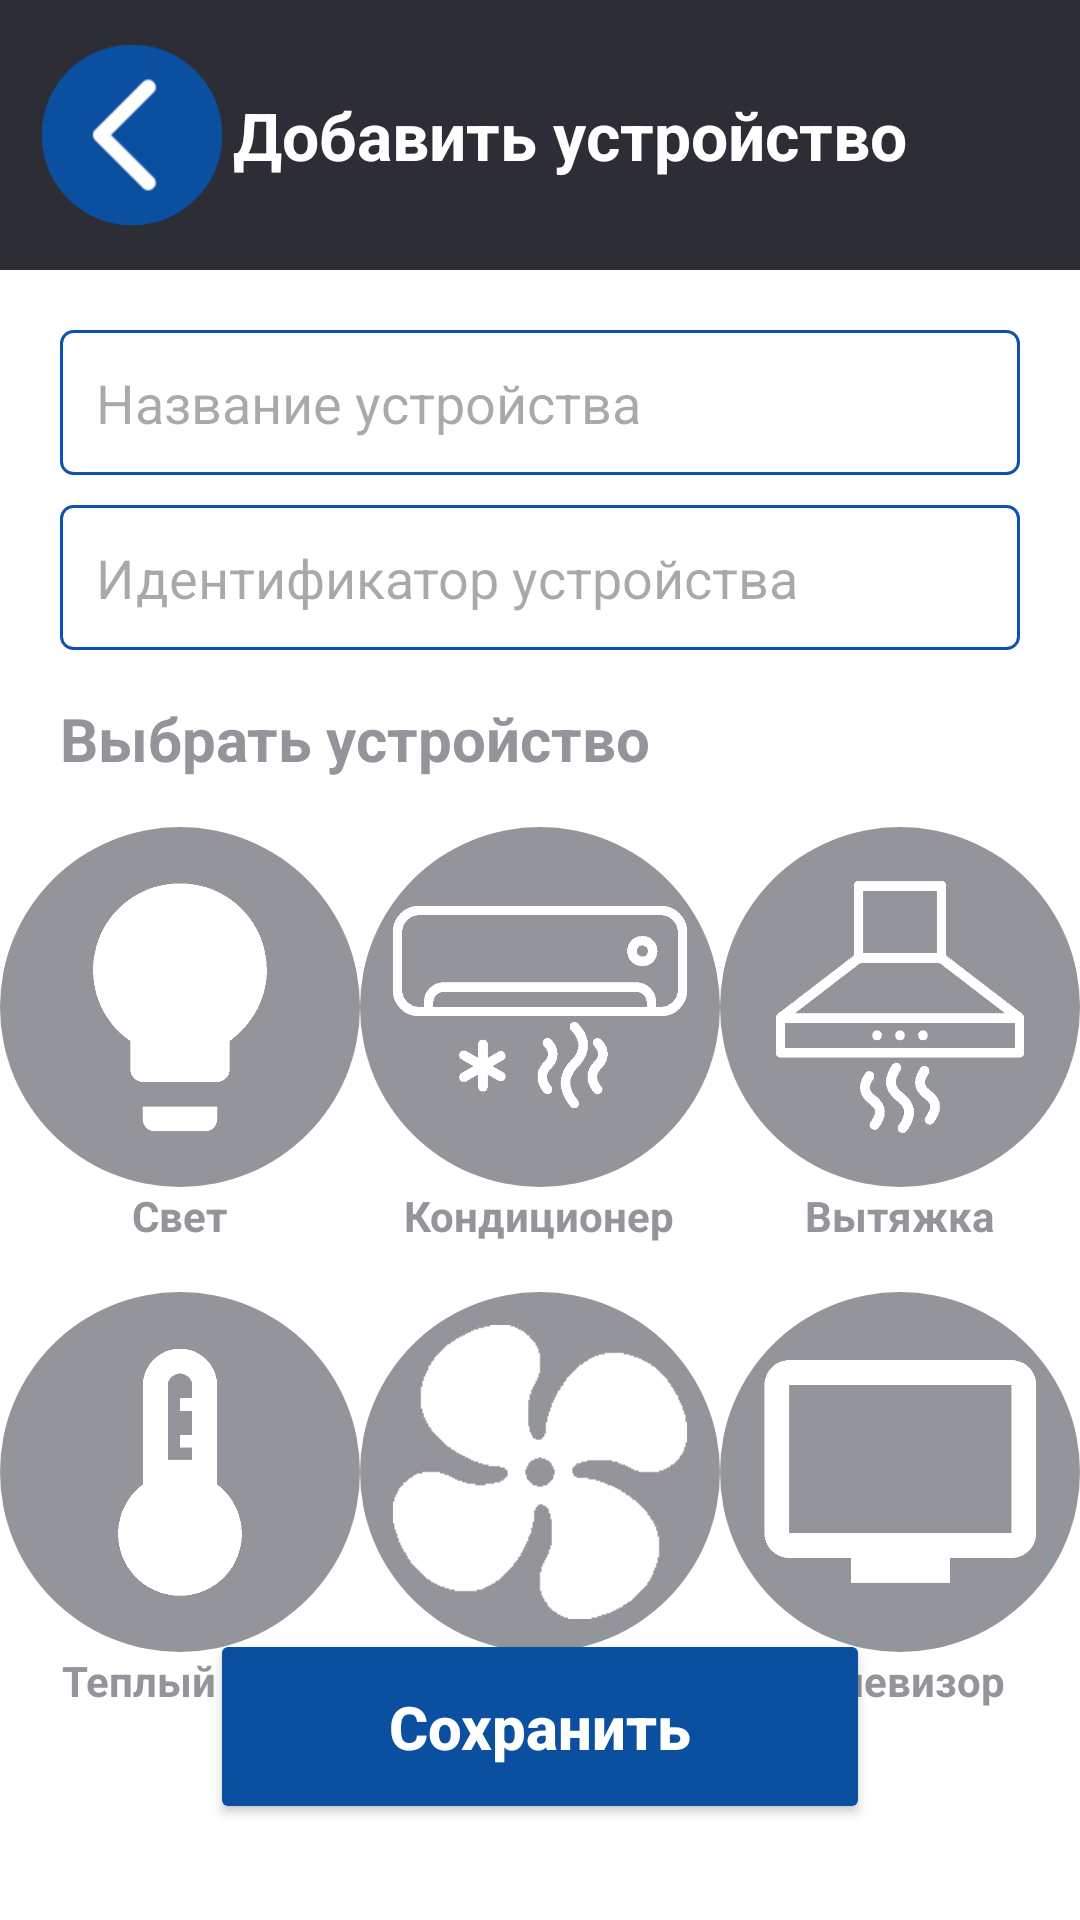

Icons on this 1080 × 1920 Android screen, each with its box as (x1=x1, y1=y1, x2=x2, y2=y2):
backarrow: (x1=42, y1=45, x2=222, y2=225)
fan: (x1=360, y1=1292, x2=720, y2=1652)
term: (x1=0, y1=1292, x2=360, y2=1652)
